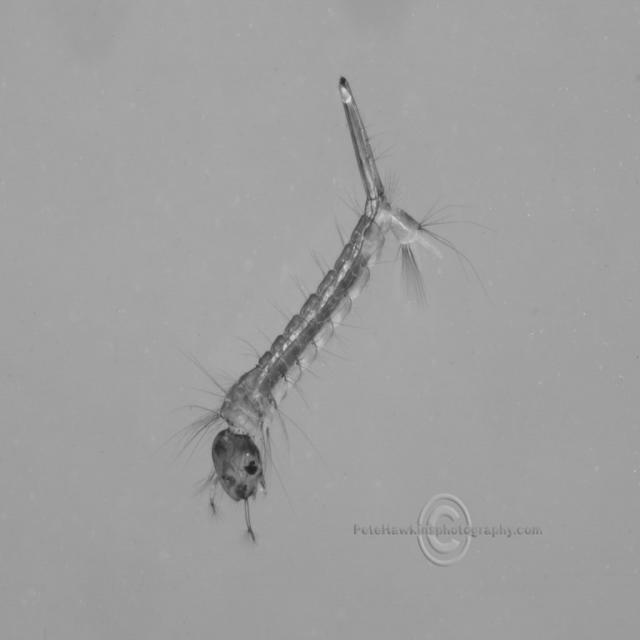larvas: (215, 78, 432, 495)
